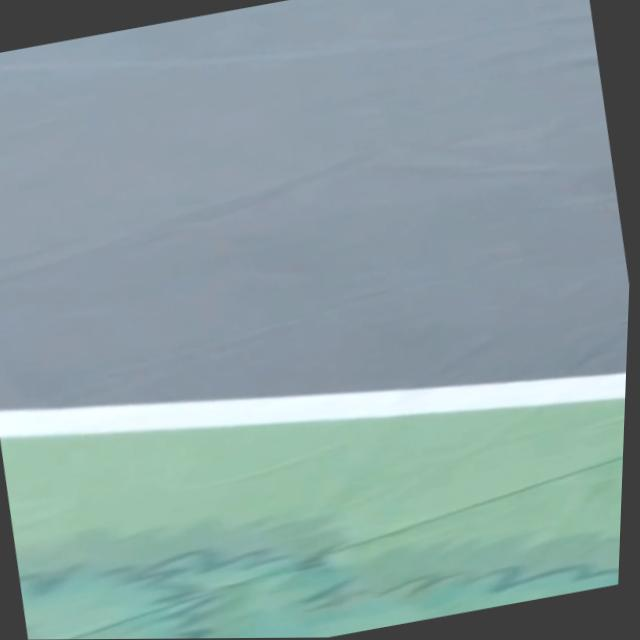right: (0, 371, 626, 436)
